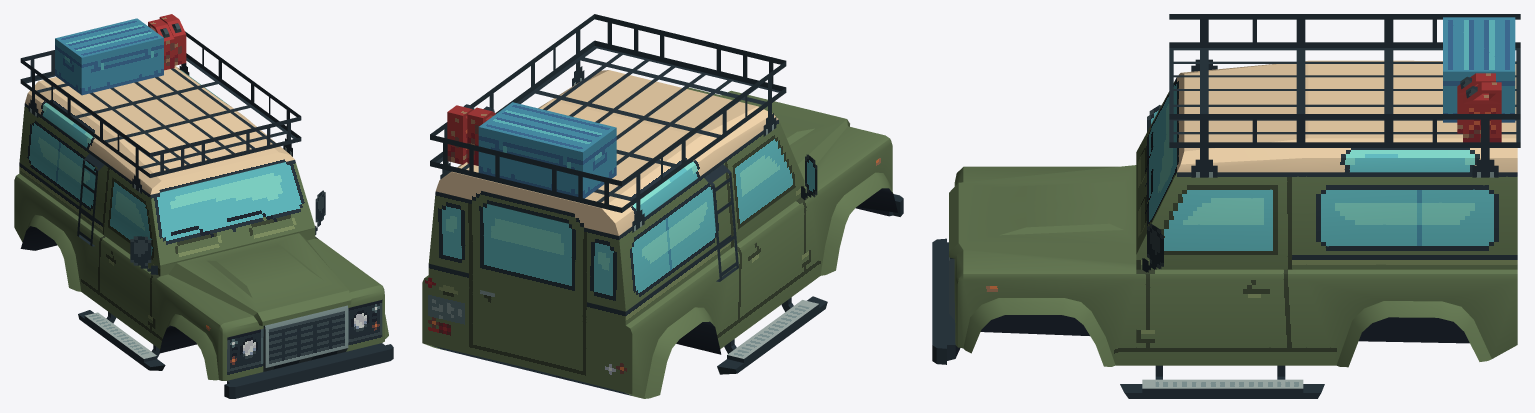
File: landroverDefender90.glb
3 renders of one model, left to right at view 1: azimuth 30°, elevation 25°; view 2: azimuth 150°, elevation 25°; view 3: azimuth 270°, elevation 25°, orthographic. The views are drawn at different scales.
Parts seen in each view (by area): view 1: BodyDefender, MiscRoof90, MiscRoof90Crate, MiscLadder90, MiscRoof90Can2, MiscRoof90Can; view 2: BodyDefender, MiscRoof90, MiscRoof90Crate, MiscLadder90, MiscRoof90Can2, MiscRoof90Can; view 3: BodyDefender, MiscRoof90, MiscRoof90Crate, MiscRoof90Can2, MiscRoof90Can.
Boxes of the visible parts, x1,y1,x2,y2 form: BodyDefender: (14, 66, 393, 398); MiscRoof90: (20, 31, 301, 193); MiscRoof90Crate: (55, 18, 163, 95); MiscLadder90: (77, 154, 104, 246); MiscRoof90Can2: (159, 14, 186, 65); MiscRoof90Can: (148, 19, 174, 70); BodyDefender: (422, 70, 903, 398); MiscRoof90: (430, 14, 786, 232); MiscRoof90Crate: (478, 102, 616, 198); MiscLadder90: (704, 164, 738, 281); MiscRoof90Can2: (447, 104, 474, 164); MiscRoof90Can: (467, 106, 495, 165); BodyDefender: (932, 60, 1517, 398); MiscRoof90: (1169, 14, 1520, 177); MiscRoof90Crate: (1443, 17, 1515, 122); MiscRoof90Can2: (1463, 82, 1501, 142); MiscRoof90Can: (1457, 73, 1495, 133).
Size of the model in its own units: 1.9 by 2.05 by 3.66.
Materials: 1 (1 with a texture image).
